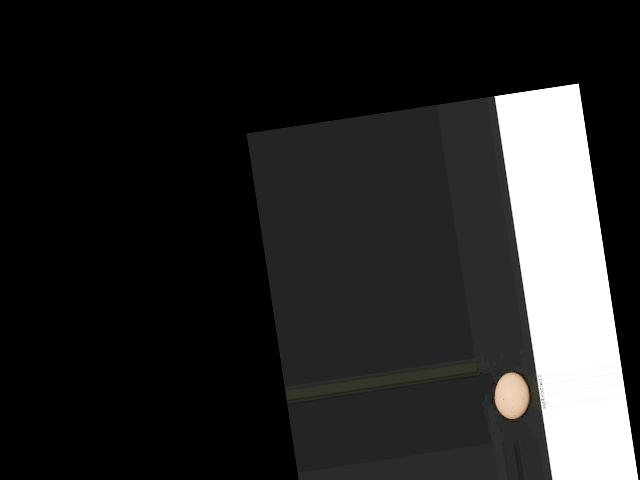egg: (491, 370, 533, 421)
